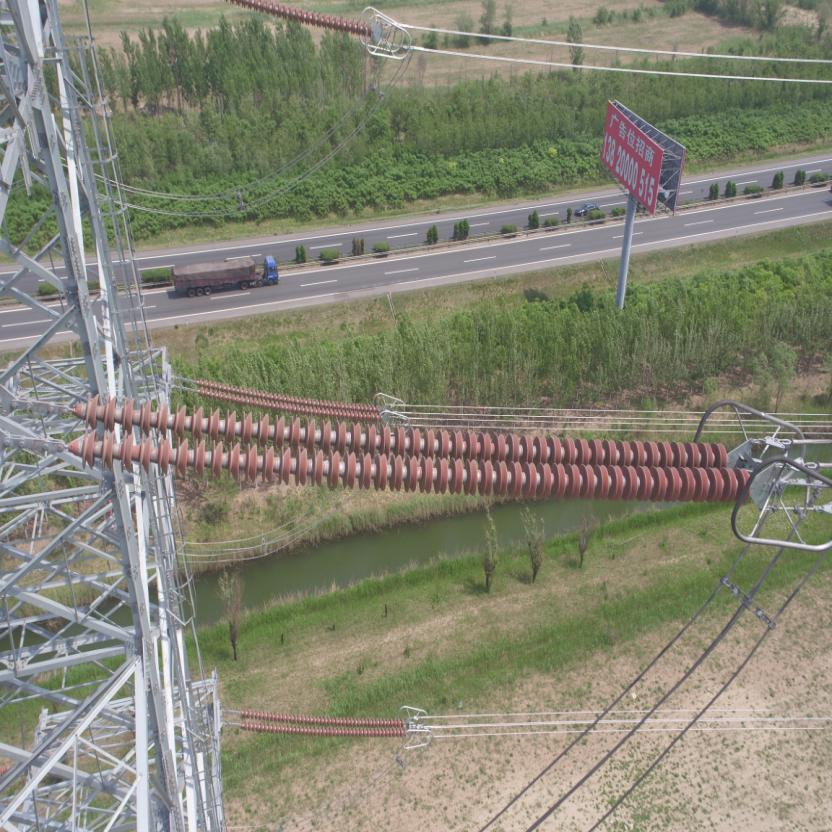insulator: (39, 389, 762, 505), (183, 374, 387, 419), (213, 0, 377, 41), (230, 706, 412, 738)
